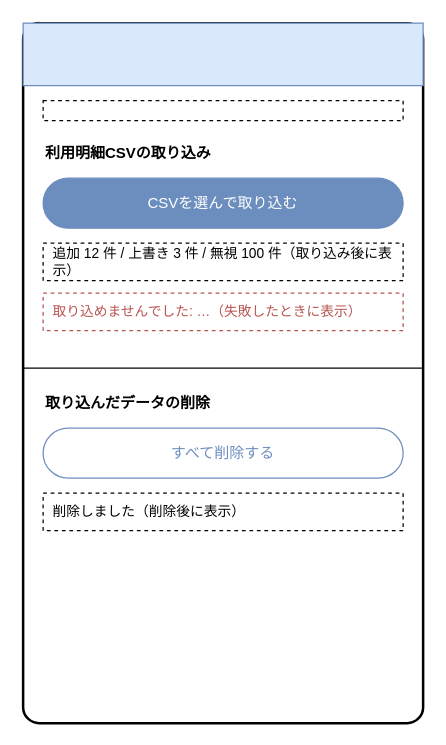
The diagram is 446 pixels wide and 745 high, and some of its shapes have lost their labels. Here are the shapes that lost their labels. From the top down, the centre of each, then its label:
At (x=222, y=54): "設定".
At (x=222, y=110): "処理中の進捗表示（取り込み・削除の間だけ）".
